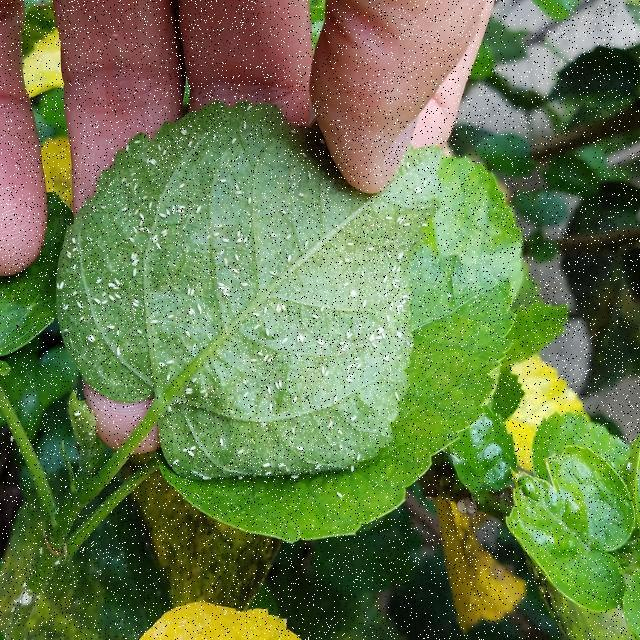Whiteflies: (39, 82, 543, 532)
